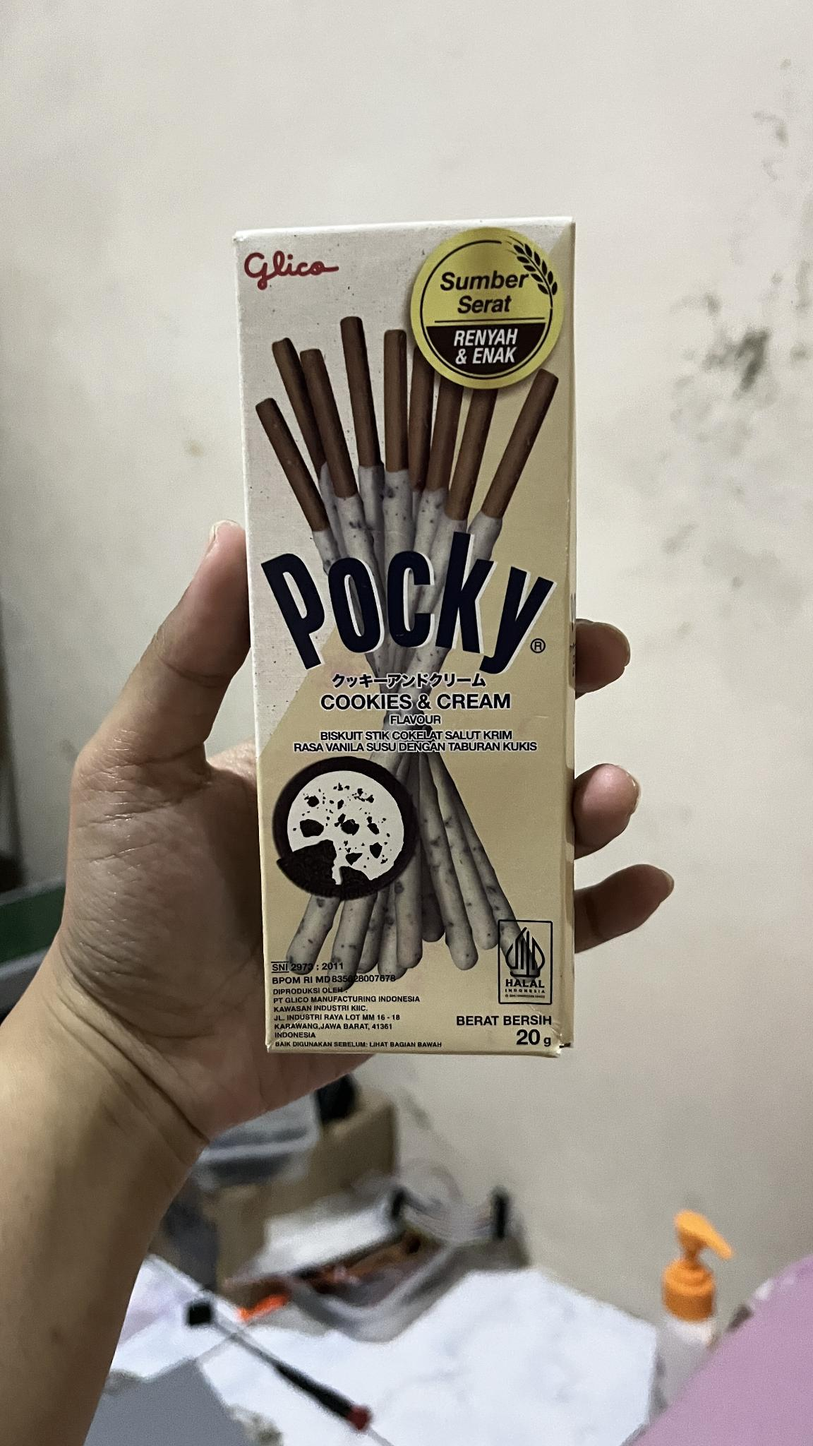Kertas: (233, 237, 570, 1051)
